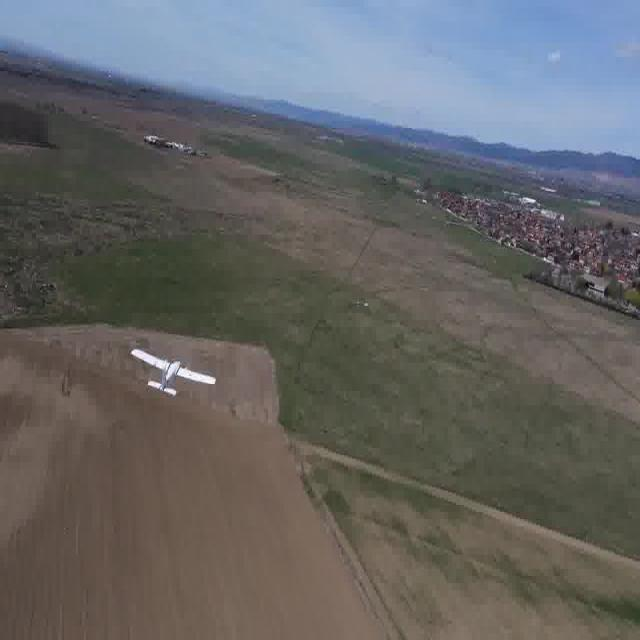iha: (158, 373, 186, 377)
